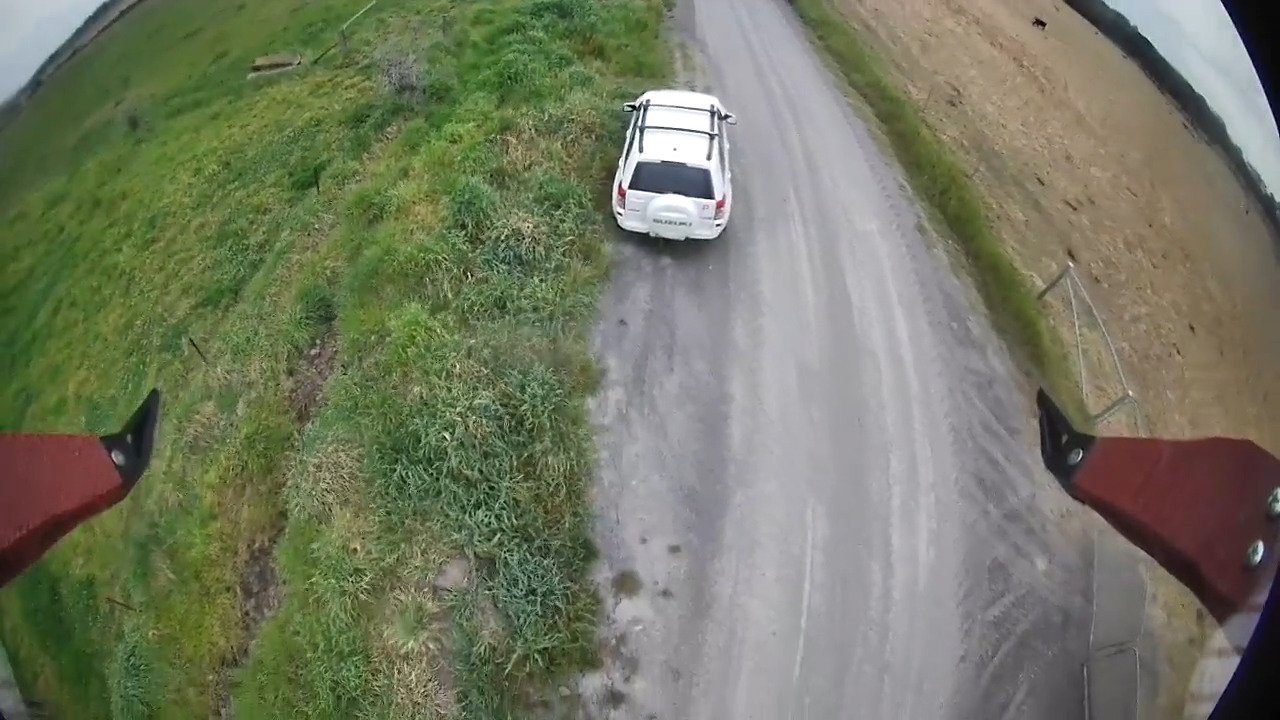Car: (610, 89, 736, 240)
